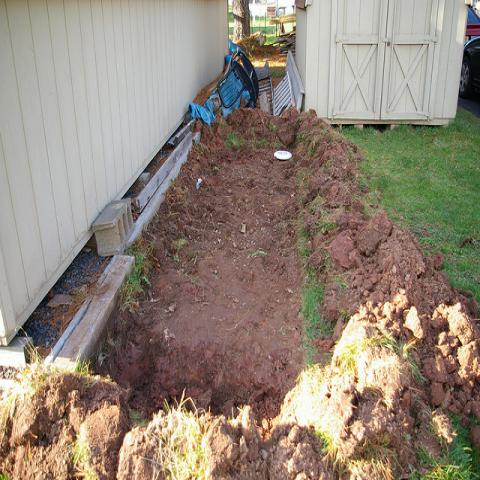car: (458, 33, 480, 104)
